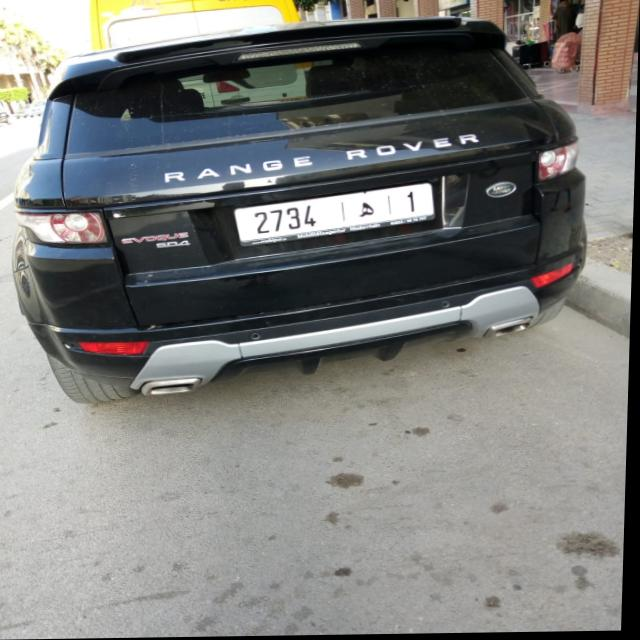License-Plate: (237, 185, 435, 242)
